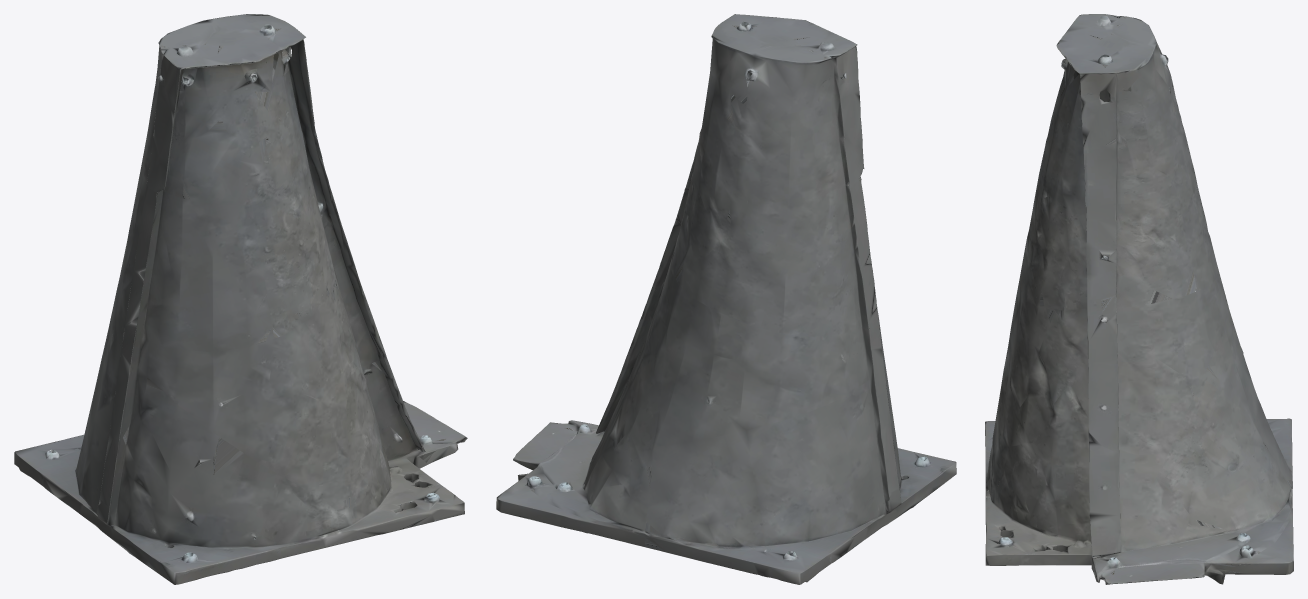
The model's file is buttress.glb.
3 renders of one model, left to right at view 1: azimuth 30°, elevation 25°; view 2: azimuth 150°, elevation 25°; view 3: azimuth 270°, elevation 25°, orthographic. The views are drawn at different scales.
Parts seen in each view (by area): view 1: tripo_node_dc101eab-f236-4764-8c97-f71a1771d851; view 2: tripo_node_dc101eab-f236-4764-8c97-f71a1771d851; view 3: tripo_node_dc101eab-f236-4764-8c97-f71a1771d851.
Part boxes in pixels (x1=…): tripo_node_dc101eab-f236-4764-8c97-f71a1771d851: x1=14, y1=14, x2=467, y2=584; tripo_node_dc101eab-f236-4764-8c97-f71a1771d851: x1=496, y1=14, x2=956, y2=584; tripo_node_dc101eab-f236-4764-8c97-f71a1771d851: x1=985, y1=14, x2=1293, y2=584.
Size of the model in its own units: 0.792 by 0.9976 by 0.6193.
Materials: 1 (1 with a texture image).
